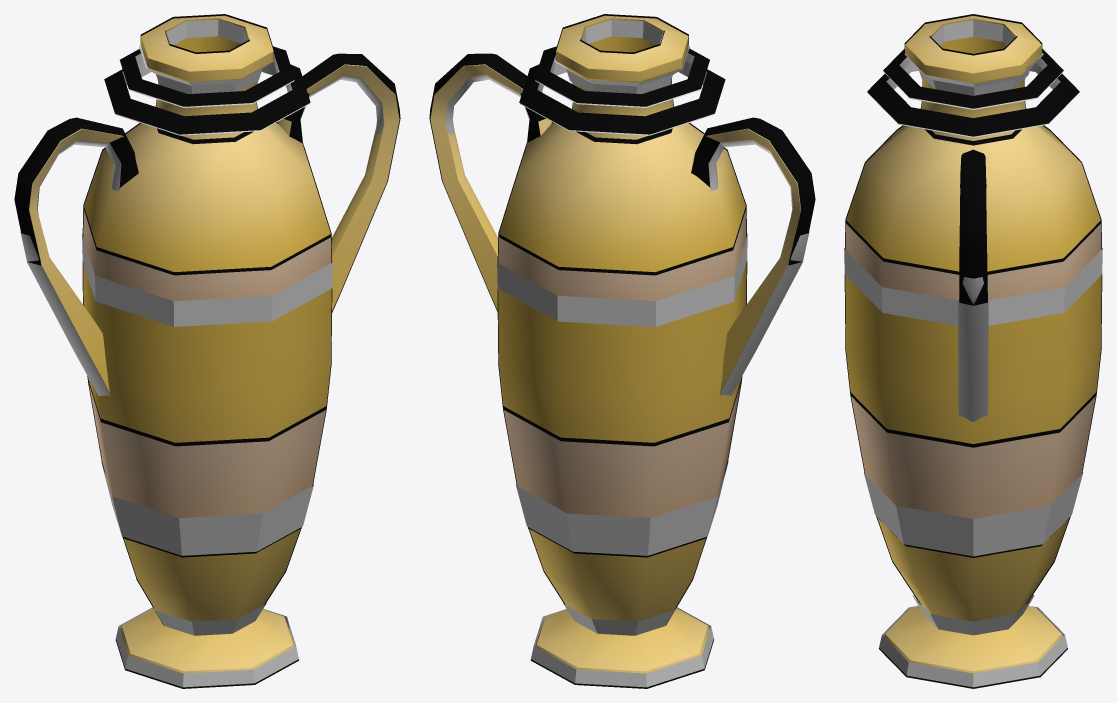
Rendered from Rooms_Paradise_Vase_Large_Art.fbx.
3 views of the same model, side by side, from view 1: azimuth 30°, elevation 25°; view 2: azimuth 150°, elevation 25°; view 3: azimuth 270°, elevation 25° (orthographic).
Parts seen in each view (by area): view 1: Rooms_Paradise_Vase_Large_Art, Rooms_Paradise_Vase_Large_Shadows, Rooms_Paradise_Vase_Large_Outline_Art; view 2: Rooms_Paradise_Vase_Large_Art, Rooms_Paradise_Vase_Large_Shadows, Rooms_Paradise_Vase_Large_Outline_Art; view 3: Rooms_Paradise_Vase_Large_Art, Rooms_Paradise_Vase_Large_Shadows, Rooms_Paradise_Vase_Large_Outline_Art.
Part boxes in pixels (x1,y1,x2,y2): Rooms_Paradise_Vase_Large_Art: [29, 15, 399, 673]; Rooms_Paradise_Vase_Large_Shadows: [20, 19, 387, 687]; Rooms_Paradise_Vase_Large_Outline_Art: [14, 14, 400, 688]; Rooms_Paradise_Vase_Large_Art: [430, 15, 800, 673]; Rooms_Paradise_Vase_Large_Shadows: [442, 19, 809, 687]; Rooms_Paradise_Vase_Large_Outline_Art: [429, 14, 815, 688]; Rooms_Paradise_Vase_Large_Art: [845, 15, 1101, 673]; Rooms_Paradise_Vase_Large_Shadows: [844, 20, 1102, 687]; Rooms_Paradise_Vase_Large_Outline_Art: [844, 14, 1102, 688].
Bounding box in the file's own units: 140 × 215 × 82.08.
